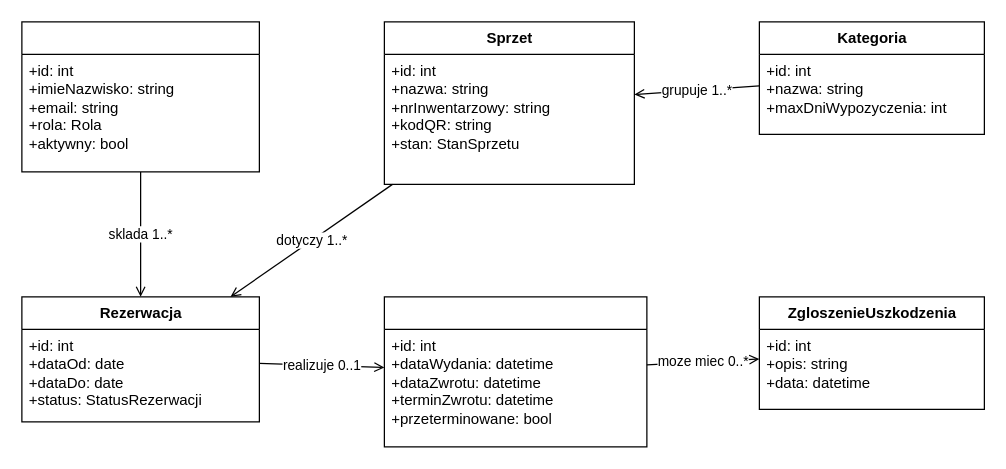
The diagram is 1006 pixels wide and 469 high, and some of its shapes have lost their labels. The shapes that lost their labels are listed below. From the top down, each one's box as (x1, y1, x2, y2) in pixels, then its label:
(21, 21, 259, 172): Uzytkownik
(383, 296, 647, 447): Wypozyczenie
